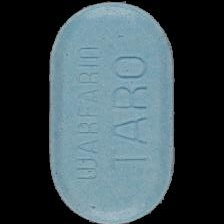51672-4031: (0, 0, 224, 224)
